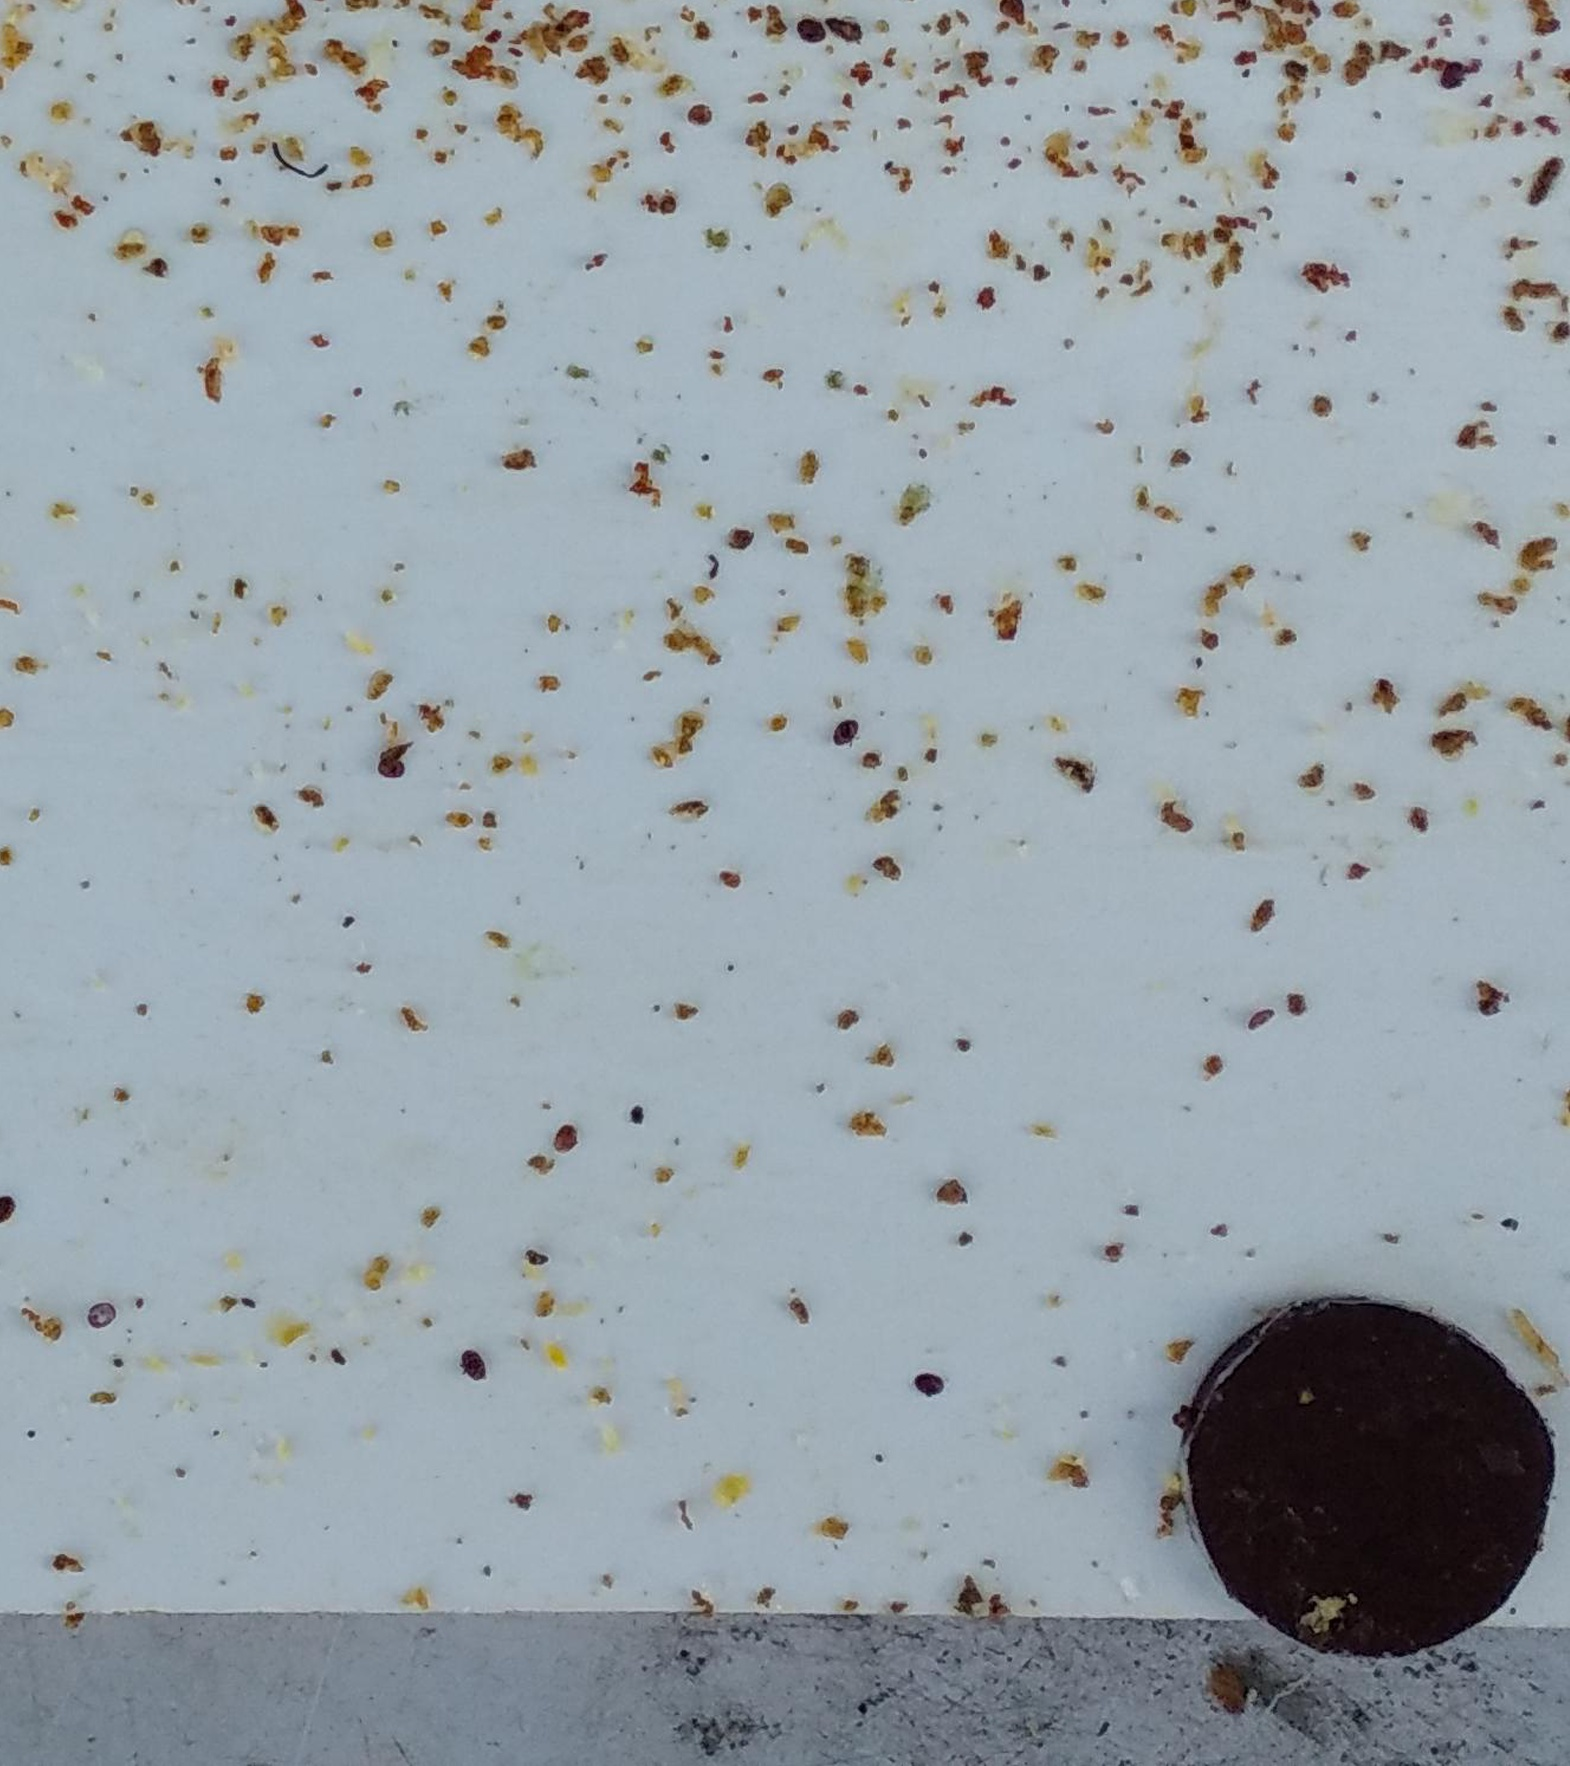Varroa: (549, 1123, 577, 1151), (1440, 61, 1465, 88), (89, 1295, 115, 1320), (833, 722, 858, 747), (467, 1351, 491, 1375), (688, 103, 712, 127), (802, 21, 824, 45), (385, 746, 408, 769), (918, 1369, 940, 1392)
